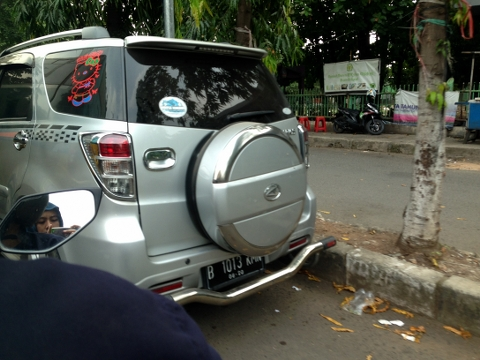mobil: (2, 26, 336, 306)
